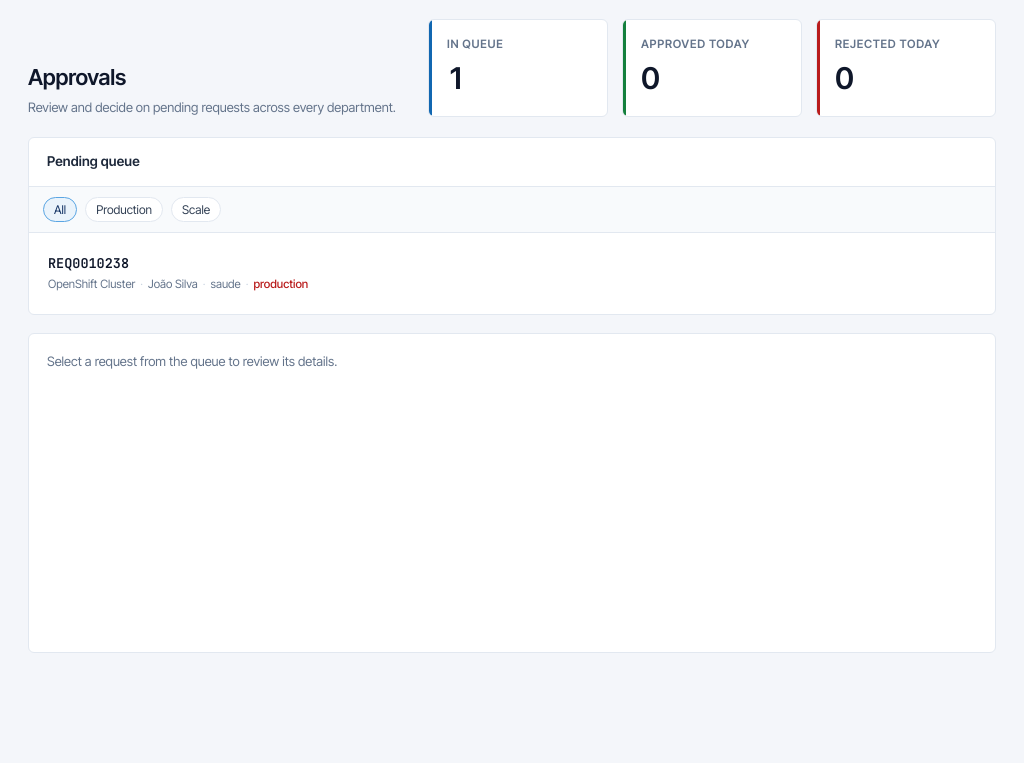
it: Approvals › detail pane renders Approve, Reject, Reassign, Request changes buttons and a 3-step approval chain
This screenshot has width=1024, height=763.
Click the button with class "approval-row": (88, 263) [48,254,308,291]
(page scrolled)
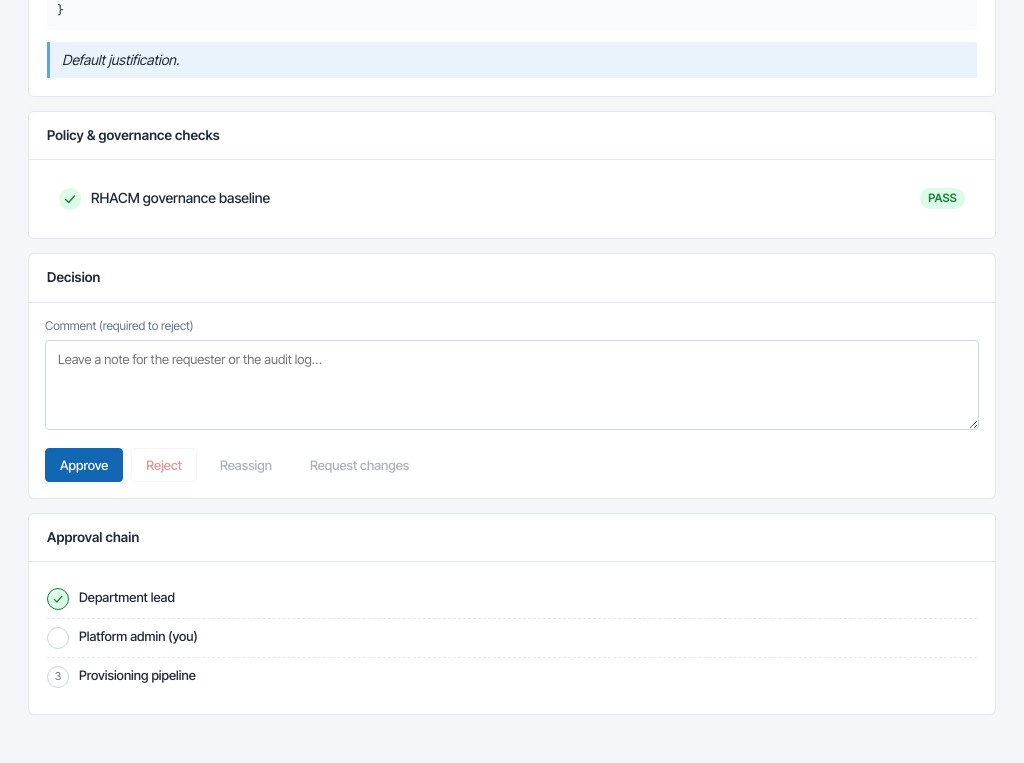
Expected: the button "Approve" is shown, [45,448,123,482]
Expected: the button "Reject" is shown, [131,448,197,482]
Expected: the button "Reassign" is shown, [205,448,287,482]
